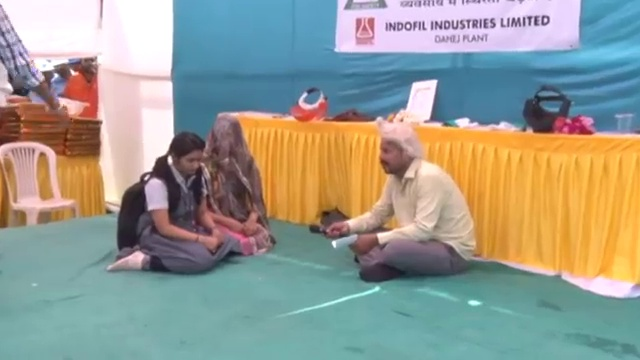helmet: (56, 97, 90, 118), (32, 57, 55, 74)
helmet_off: (370, 122, 422, 182), (206, 117, 249, 173), (162, 132, 206, 184), (81, 59, 97, 78)
helmet_on: (32, 57, 56, 84)
person: (328, 120, 477, 283), (109, 133, 240, 279), (193, 118, 275, 263), (1, 13, 54, 101), (63, 61, 98, 119), (32, 56, 66, 98)
